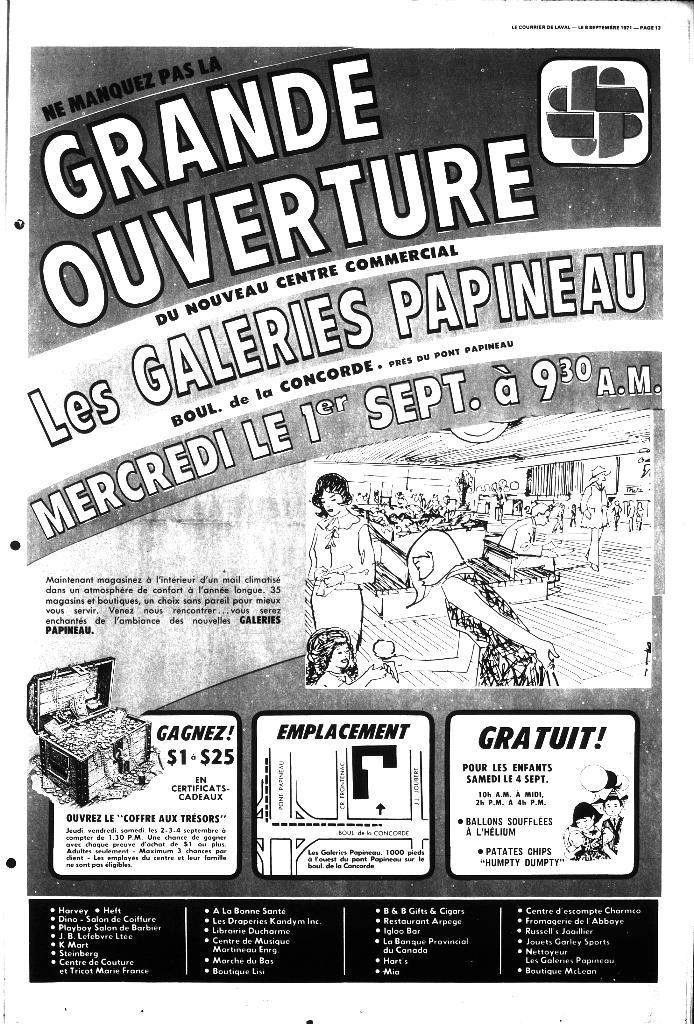Sem Máscara: (315, 482, 338, 514), (327, 632, 345, 665), (604, 793, 623, 814), (410, 554, 428, 576), (570, 809, 588, 826), (534, 512, 546, 526), (592, 462, 600, 481)
